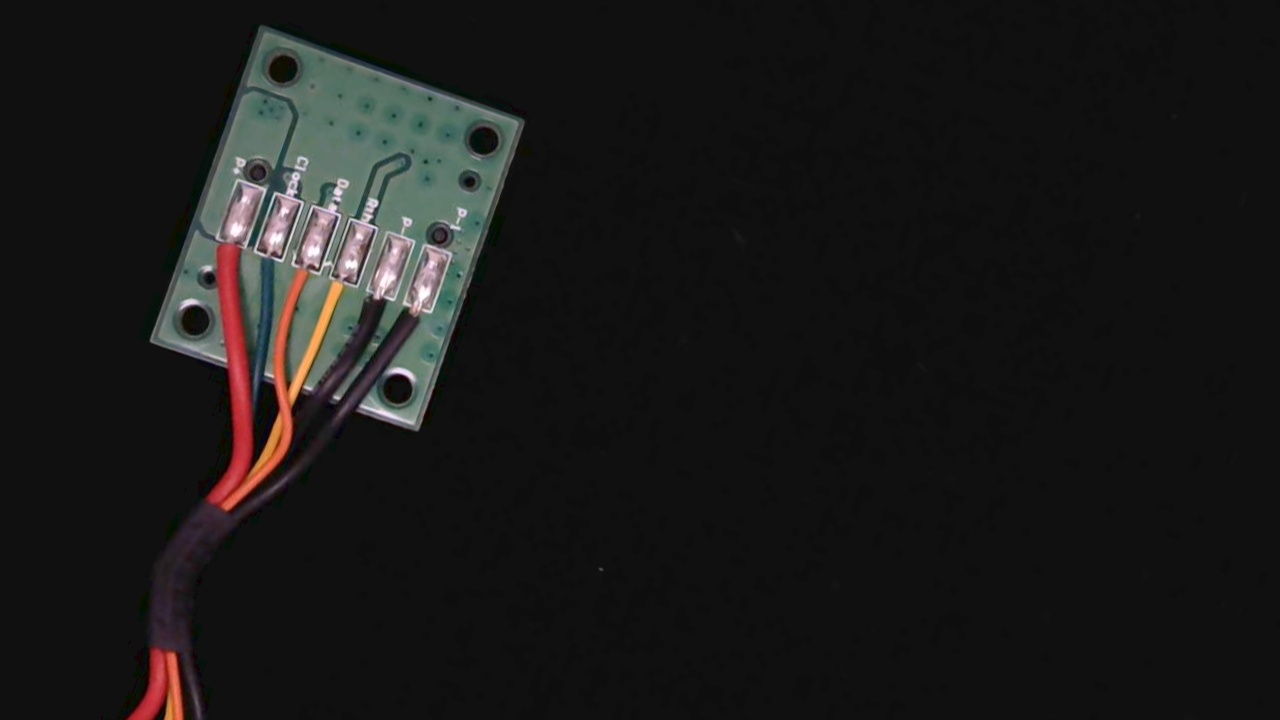Black: (347, 277, 396, 348)
Black1: (386, 290, 435, 356)
Green: (236, 237, 287, 305)
Orange: (271, 251, 322, 323)
Red: (199, 226, 251, 291)
Yellow: (308, 263, 360, 332)
